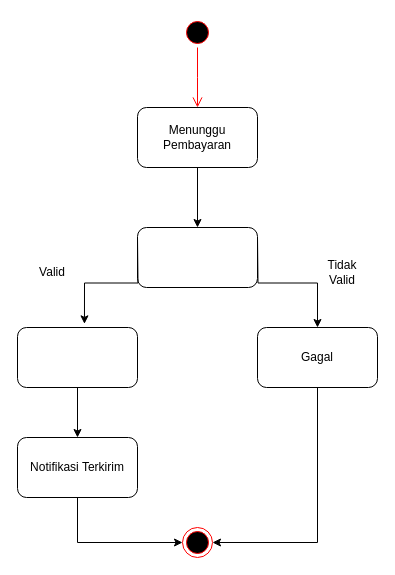
The diagram is 395 pixels wide and 575 high, and some of its shapes have lost their labels. Here are the shapes that lost their labels. From the top down, the box of each, then its label:
(136, 226, 258, 288): Diproses Gateway
(16, 326, 138, 388): Berhasil
